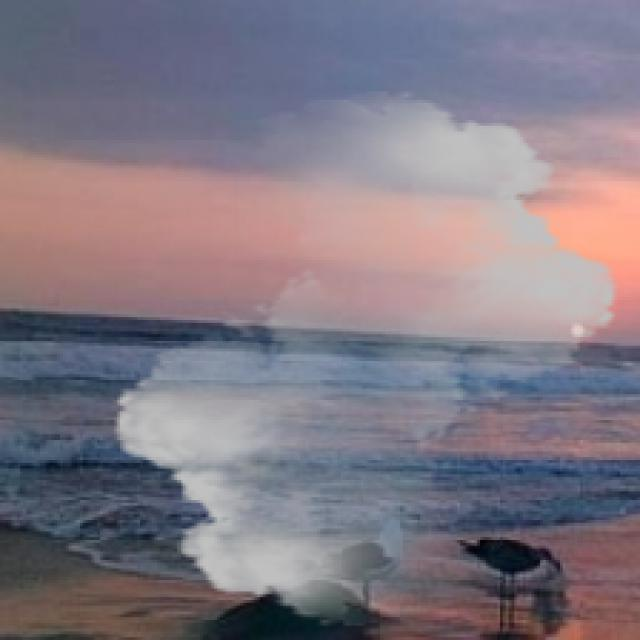smoke: (97, 91, 634, 626)
